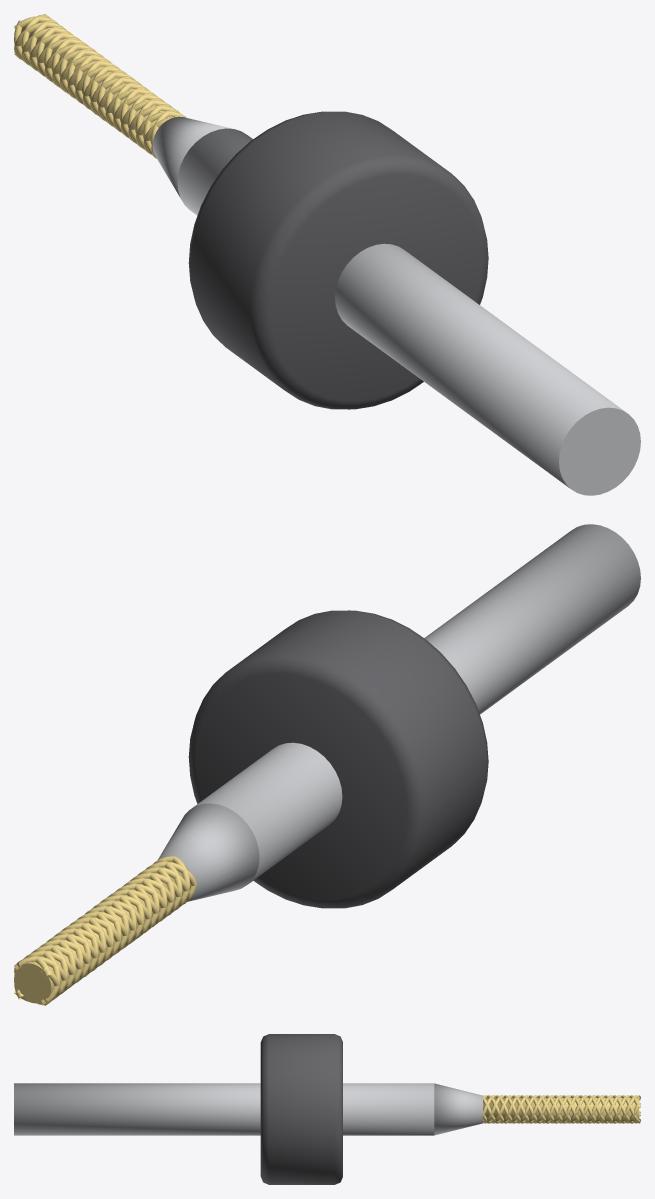
The model's file is corn18_1p7.glb.
3 renders of one model, top to bottom at view 1: azimuth 30°, elevation 25°; view 2: azimuth 150°, elevation 25°; view 3: azimuth 270°, elevation 25°, orthographic. The views are drawn at different scales.
Visible parts, largest first — view 1: Cylinder.002, Cylinder.001, Cone, flute.007, flute, flute.002, flute.005, flute.006, flute.001, flute.003, flute.004, Cylinder; view 2: Cylinder.002, Cylinder.001, Cone, Cylinder, flute.007, flute, flute.002, flute.005, flute.001, flute.006, flute.004, flute.003; view 3: Cylinder.001, Cylinder.002, Cone, Cylinder, flute.006, flute.005, flute.003, flute, flute.004, flute.007, flute.001, flute.002.
Part boxes in pixels (left/top/right/bottom): Cylinder.002: left=188, top=111, right=488, bottom=409; Cylinder.001: left=177, top=128, right=640, bottom=495; Cone: left=152, top=116, right=232, bottom=197; flute.007: left=21, top=14, right=171, bottom=158; flute: left=14, top=22, right=186, bottom=147; flute.002: left=21, top=27, right=173, bottom=152; flute.005: left=29, top=20, right=179, bottom=145; flute.006: left=14, top=16, right=180, bottom=141; flute.001: left=14, top=20, right=163, bottom=154; flute.003: left=14, top=26, right=186, bottom=149; flute.004: left=29, top=14, right=173, bottom=157; Cylinder: left=14, top=21, right=172, bottom=144; Cylinder.002: left=188, top=610, right=488, bottom=908; Cylinder.001: left=191, top=524, right=640, bottom=883; Cone: left=157, top=803, right=259, bottom=901; Cylinder: left=14, top=861, right=191, bottom=1003; flute.007: left=14, top=867, right=190, bottom=991; flute: left=32, top=860, right=182, bottom=1005; flute.002: left=14, top=856, right=190, bottom=1003; flute.005: left=14, top=861, right=196, bottom=999; flute.001: left=38, top=872, right=182, bottom=997; flute.006: left=25, top=865, right=174, bottom=988; flute.004: left=14, top=871, right=196, bottom=994; flute.003: left=31, top=856, right=174, bottom=1005; Cylinder.001: left=14, top=1083, right=434, bottom=1135; Cylinder.002: left=260, top=1034, right=342, bottom=1184; Cone: left=434, top=1083, right=482, bottom=1135; Cylinder: left=483, top=1097, right=639, bottom=1121; flute.006: left=483, top=1095, right=640, bottom=1123; flute.005: left=487, top=1095, right=640, bottom=1123; flute.003: left=482, top=1095, right=640, bottom=1123; flute: left=482, top=1095, right=640, bottom=1123; flute.004: left=491, top=1095, right=640, bottom=1123; flute.007: left=495, top=1095, right=640, bottom=1123; flute.001: left=482, top=1095, right=640, bottom=1123; flute.002: left=483, top=1095, right=640, bottom=1123.
Size of the model in its own units: 0.00917 by 0.00917 by 0.0381.
